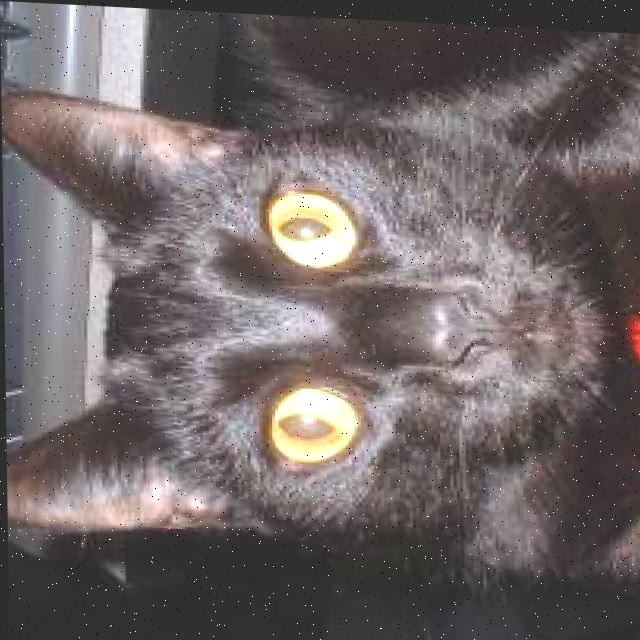Bombay: (0, 0, 640, 586)
